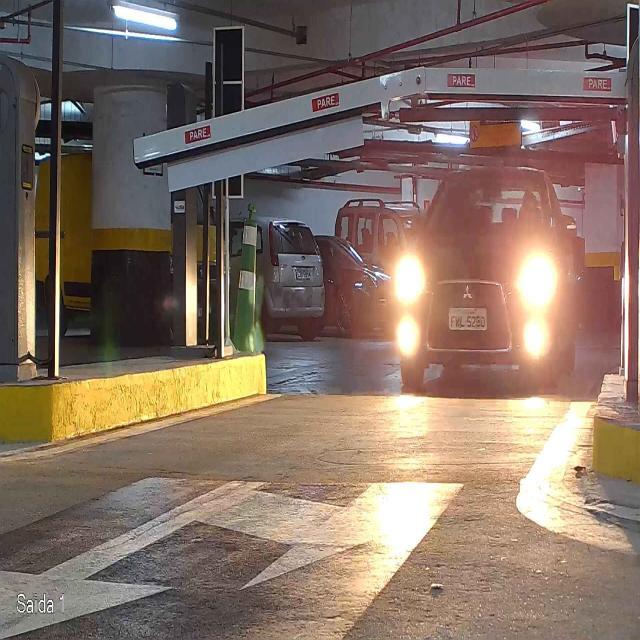old_plate: (447, 306, 489, 330)
